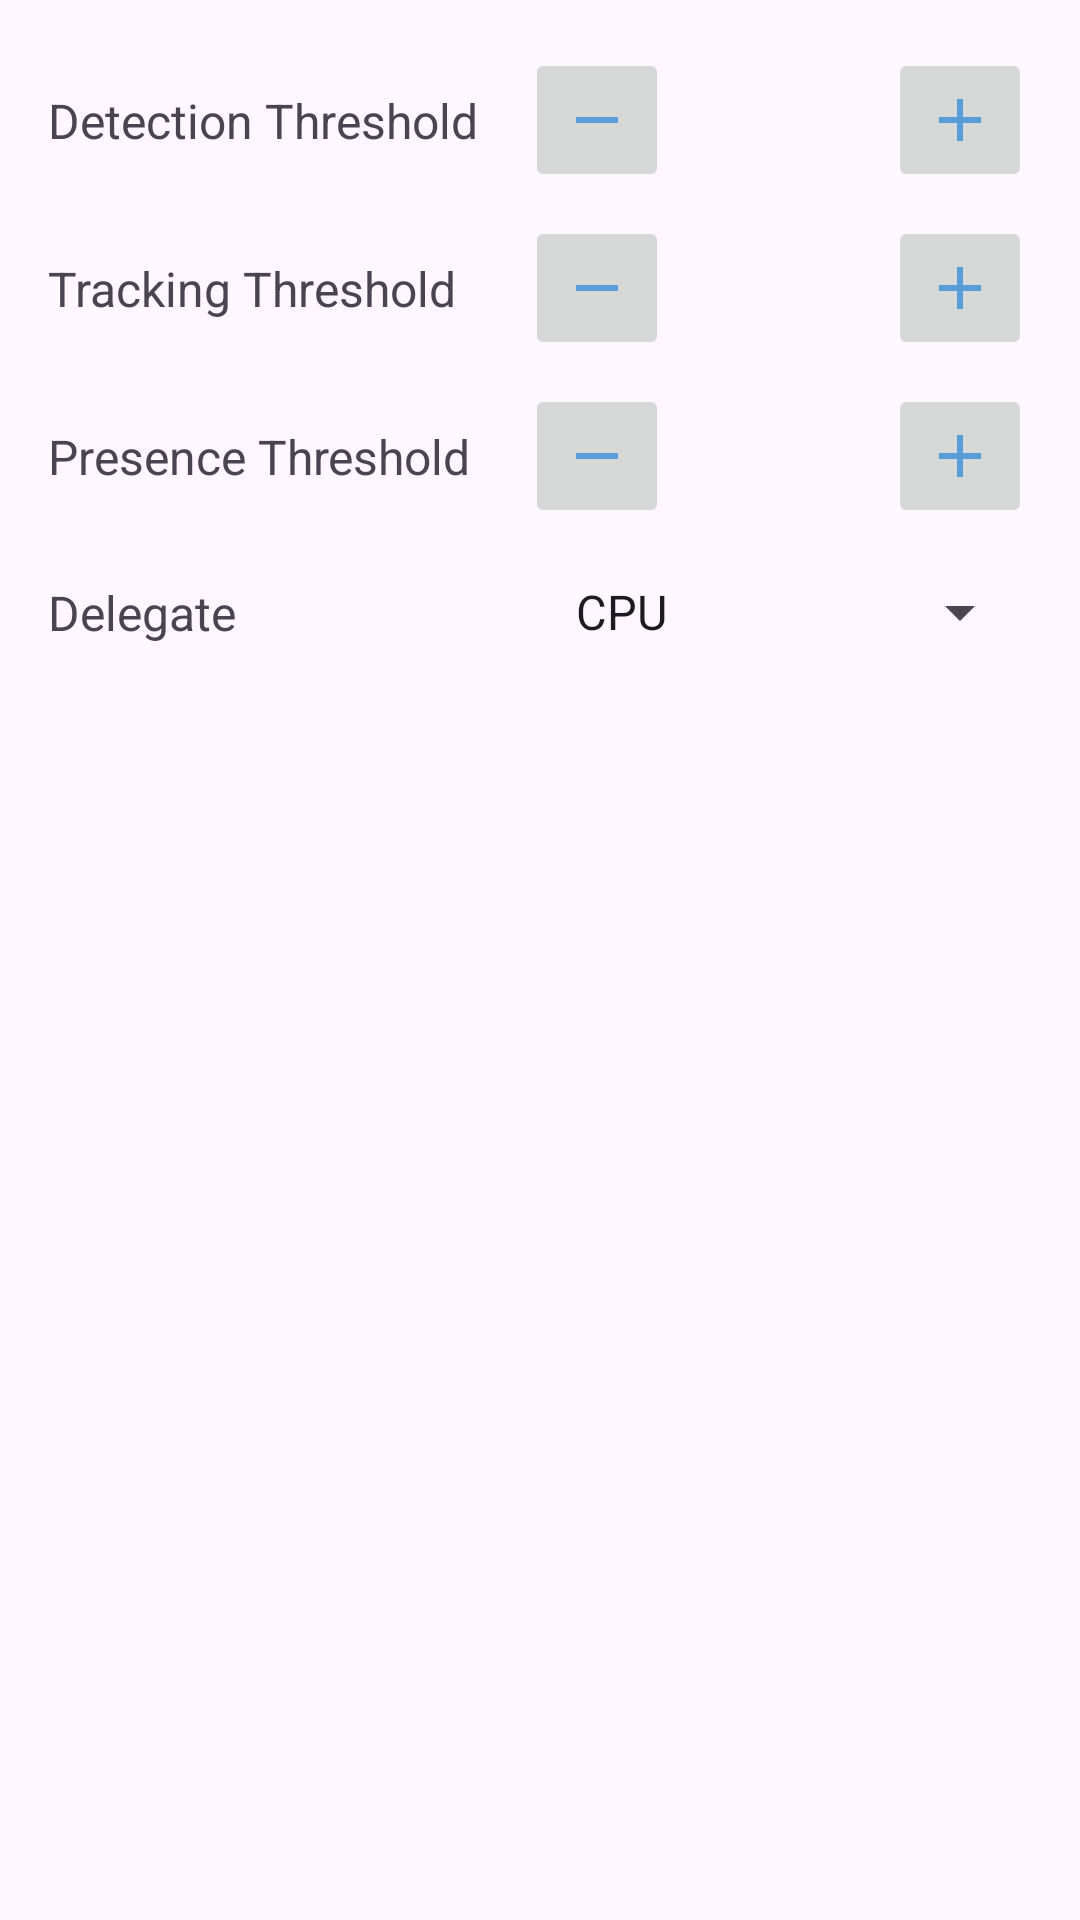

Icon bounding boxes for this 1080 × 1920 phone screenshot, format box(x1, y1, x2, y2):
add: box(900, 66, 1020, 174), box(900, 234, 1020, 342), box(900, 402, 1020, 510)
remove: box(537, 66, 657, 174), box(537, 234, 657, 342), box(537, 402, 657, 510)
